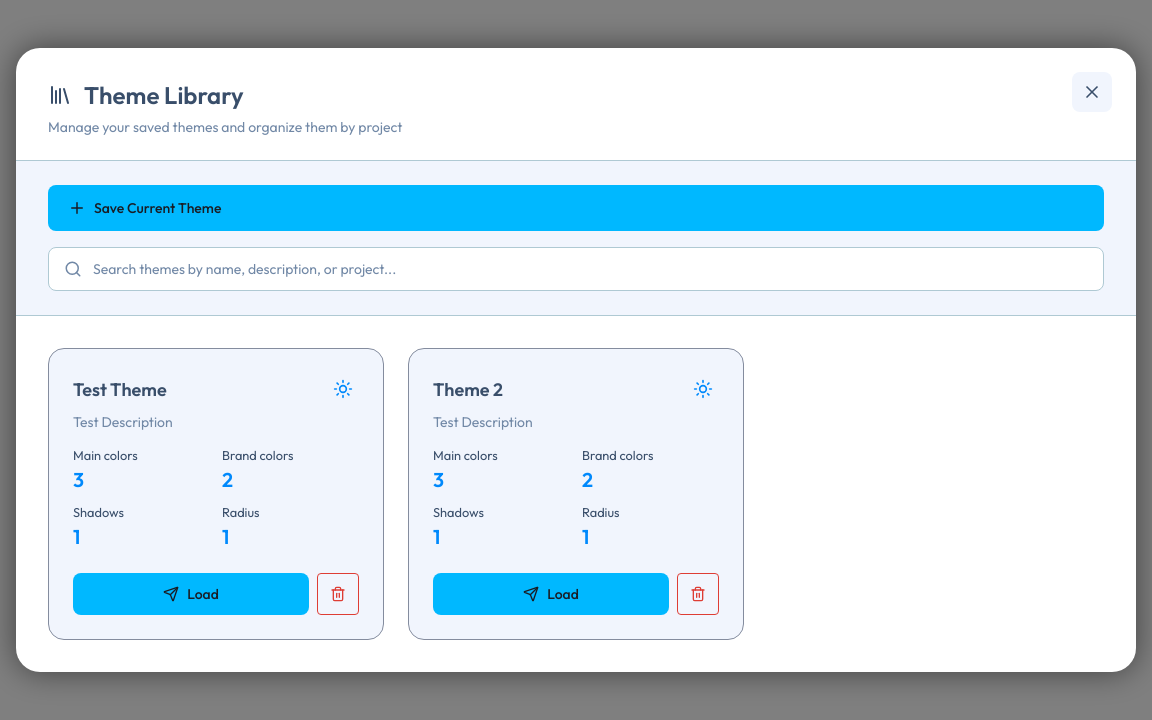
Scenario: LibraryModal Component › Functionality › opens save dialog when save button clicked
Click the button "Save Current Theme": (158, 208) x1=48 y1=185 x2=1104 y2=231
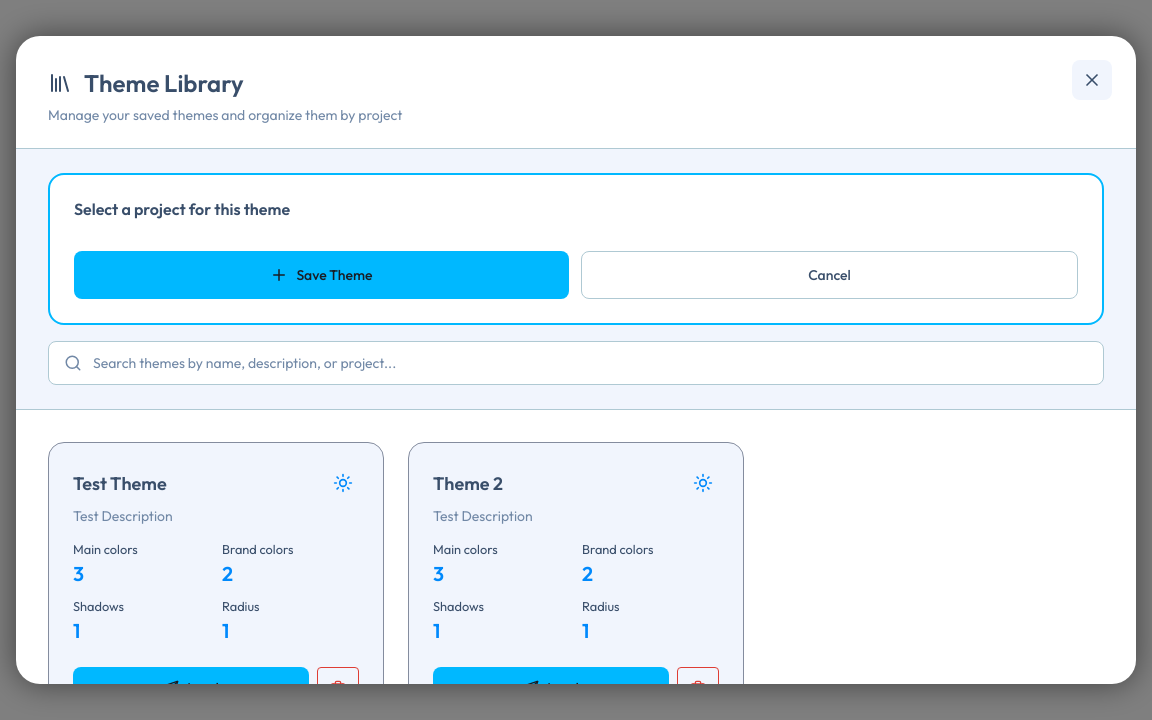
Expected: the text "Select a project for this theme" is shown, x1=74 y1=199 x2=290 y2=219
Expected: the text "Save Theme" is shown, x1=296 y1=266 x2=373 y2=284
Expected: the button "Cancel" is shown, x1=581 y1=251 x2=1078 y2=299
